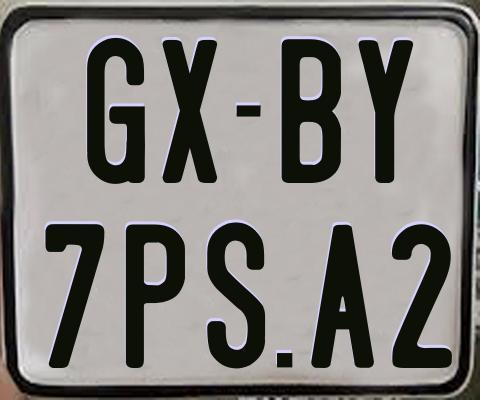2: (391, 223, 456, 372)
7: (44, 221, 106, 365)
A: (310, 225, 375, 373)
B: (281, 38, 340, 187)
G: (87, 37, 148, 186)
P: (125, 223, 185, 371)
S: (206, 221, 266, 370)
X: (162, 40, 219, 183)
Y: (356, 39, 416, 183)
